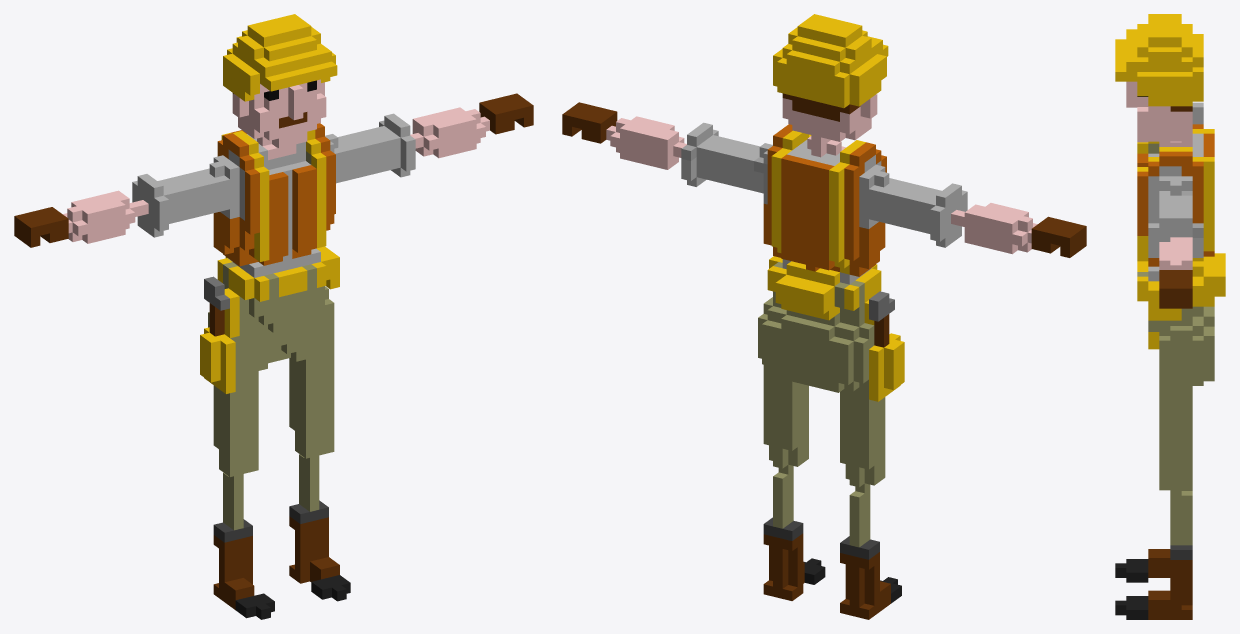
File: Worker.fbx
The picture shows the model from 3 angles, left to right: view 1: azimuth 30°, elevation 25°; view 2: azimuth 150°, elevation 25°; view 3: azimuth 270°, elevation 25°; orthographic projection.
Parts seen in each view (by area): view 1: Torso Upper, Torso Lower, Head, Arm R, Leg L, Leg R, Arm L; view 2: Torso Upper, Torso Lower, Head, Arm R, Arm L, Leg R, Leg L; view 3: Head, Leg L, Torso Lower, Torso Upper, Arm L, Leg R, Arm R.
Boxes of the visible parts, bbox=[...] form: Torso Upper: bbox=[213, 123, 335, 277]; Torso Lower: bbox=[200, 246, 339, 393]; Head: bbox=[223, 14, 337, 148]; Arm R: bbox=[14, 161, 229, 247]; Leg L: bbox=[289, 352, 350, 601]; Leg R: bbox=[213, 371, 274, 619]; Arm L: bbox=[325, 93, 533, 183]; Torso Upper: bbox=[763, 124, 886, 286]; Torso Lower: bbox=[758, 256, 904, 401]; Head: bbox=[773, 14, 888, 157]; Arm R: bbox=[869, 171, 1086, 257]; Arm L: bbox=[562, 102, 772, 193]; Leg R: bbox=[840, 387, 901, 619]; Leg L: bbox=[763, 365, 825, 600]; Head: bbox=[1115, 14, 1203, 146]; Leg L: bbox=[1115, 390, 1192, 619]; Torso Lower: bbox=[1137, 253, 1225, 390]; Torso Upper: bbox=[1137, 124, 1214, 281]; Arm L: bbox=[1148, 181, 1203, 308]; Leg R: bbox=[1115, 485, 1192, 582]; Arm R: bbox=[1192, 102, 1203, 124].
Bounding box in the file's own units: 530 × 570 × 100.
